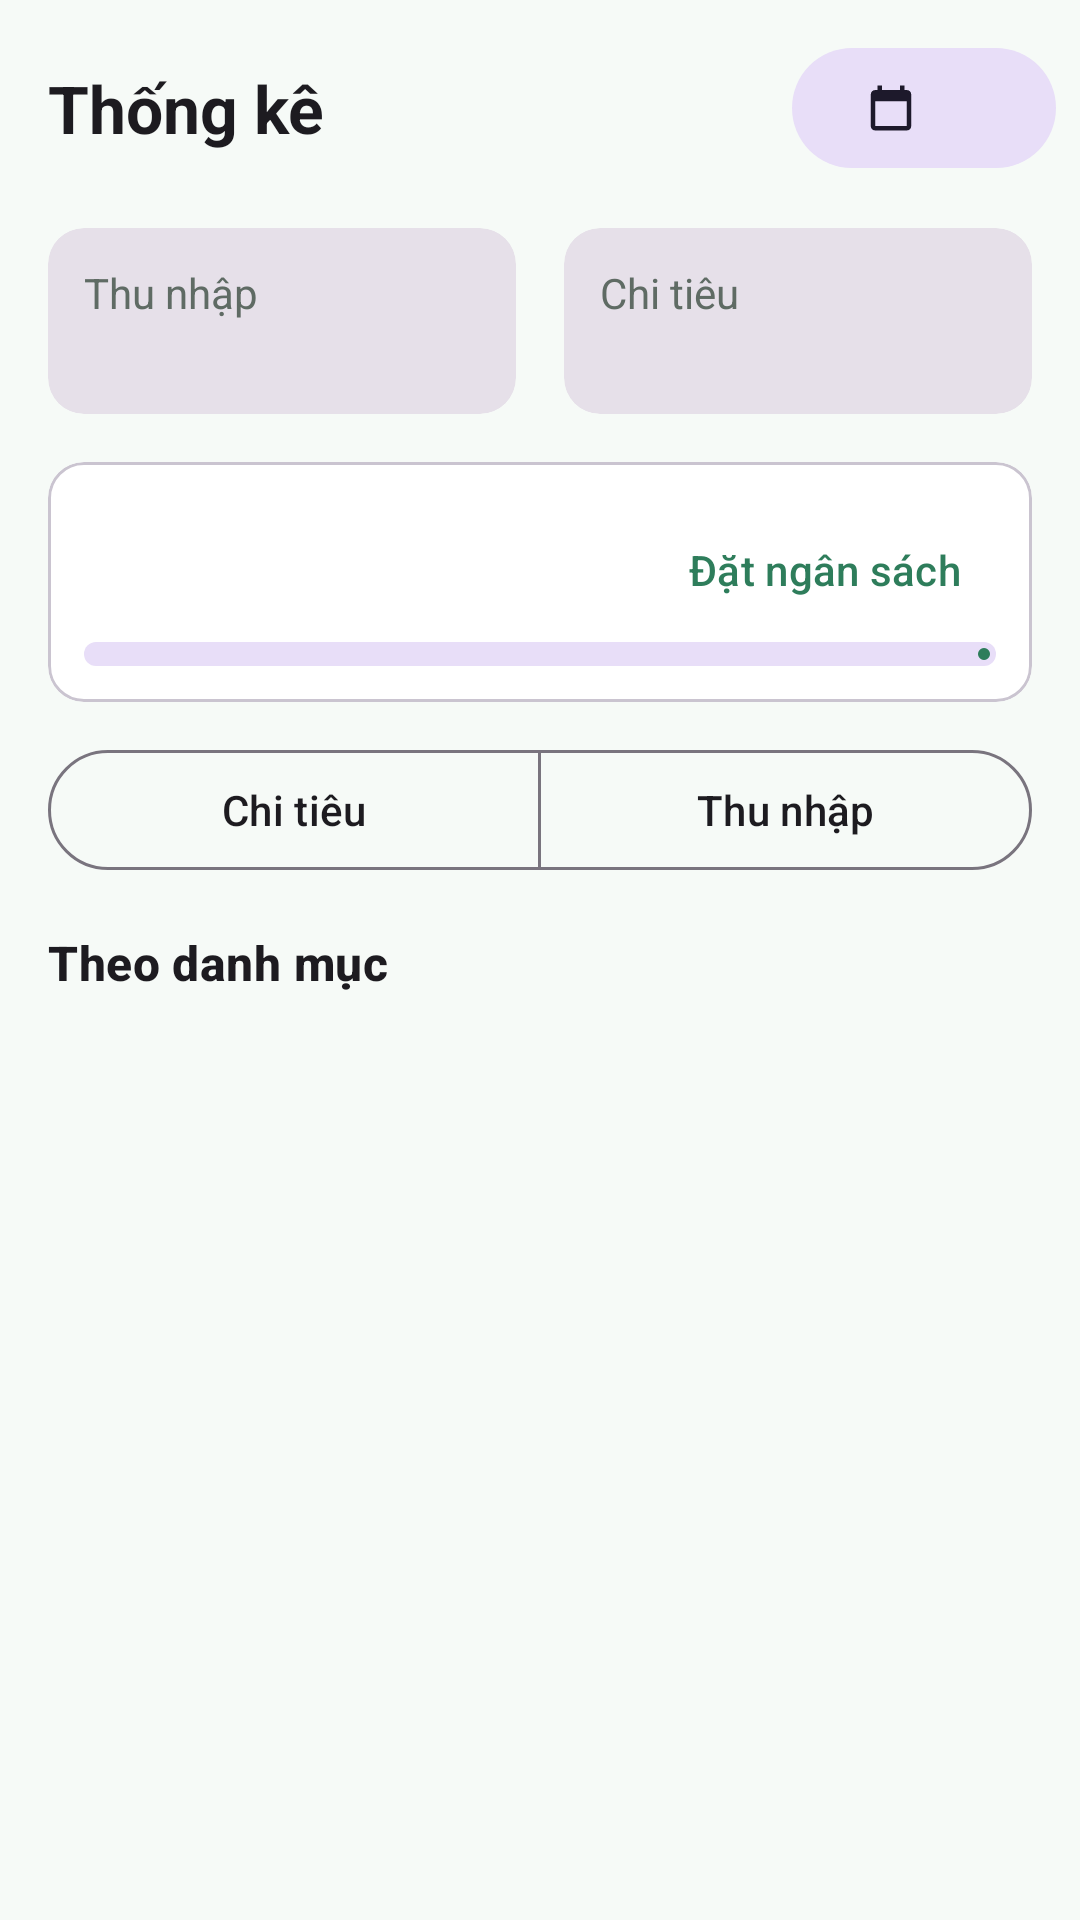

Named icons in this screenshot (1080 x 1920) and their centers, (x=x, y=y):
calendar: (x=924, y=108)
